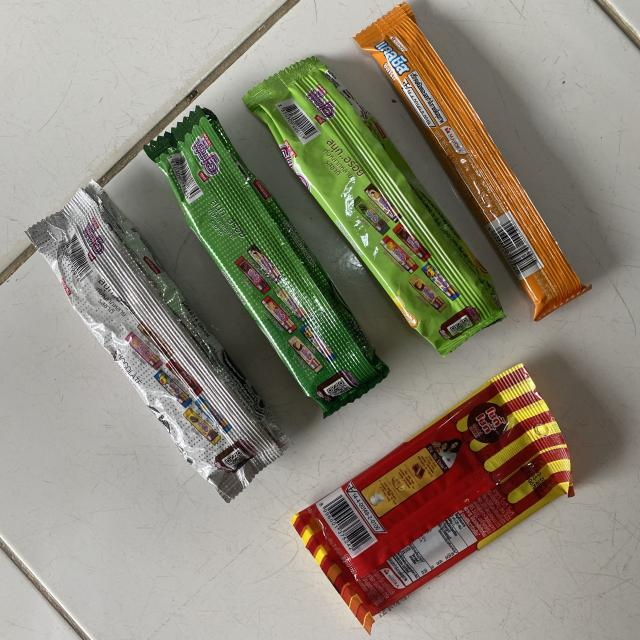plastik: (26, 181, 290, 500), (244, 56, 504, 355), (292, 364, 574, 632), (146, 106, 389, 415), (354, 2, 589, 320)
